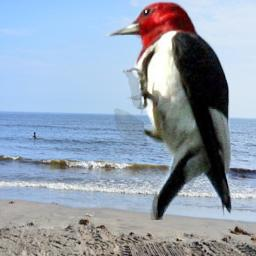Woodpecker: (104, 0, 235, 220)
